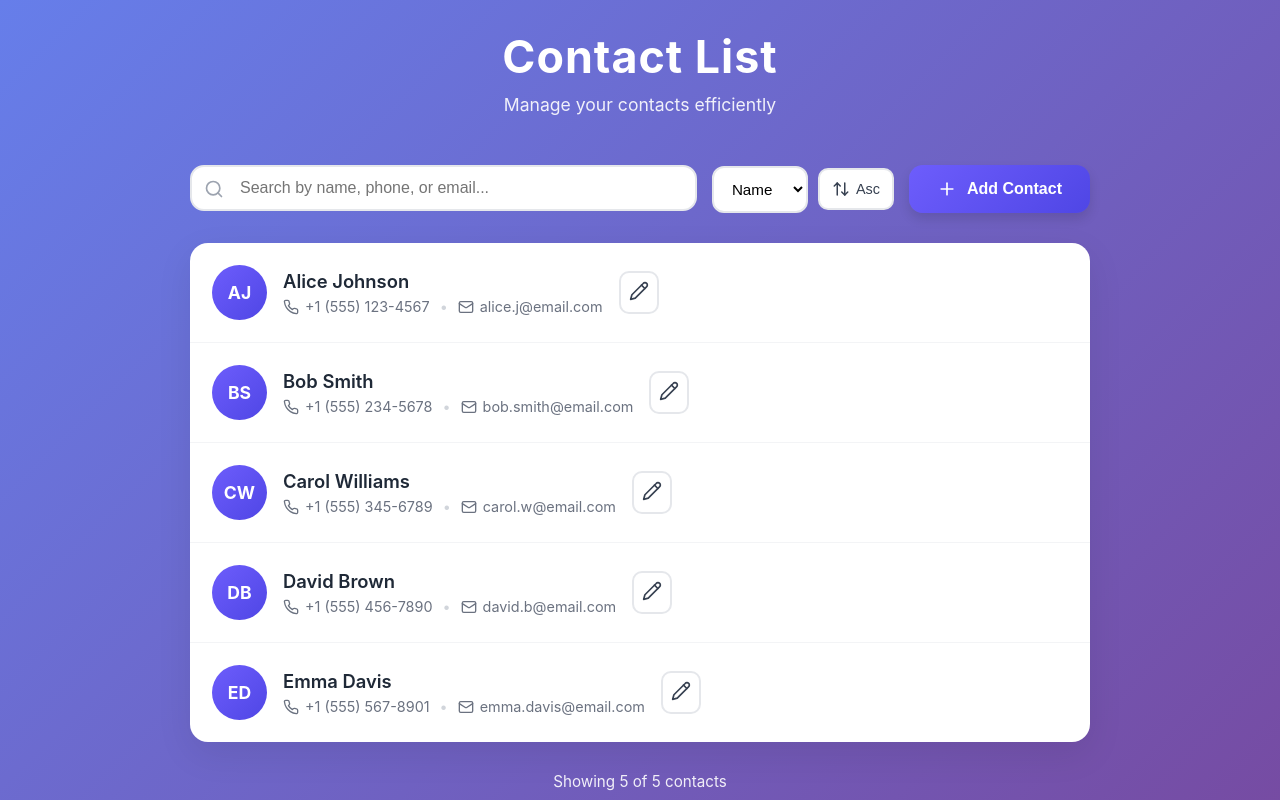
Test: App core flows › search filters by name, phone, and email
Type "alice" into the field with placeholder "Search by name, phone, or email...".
click(443, 188); type("alice")  # box [190,165,697,211]
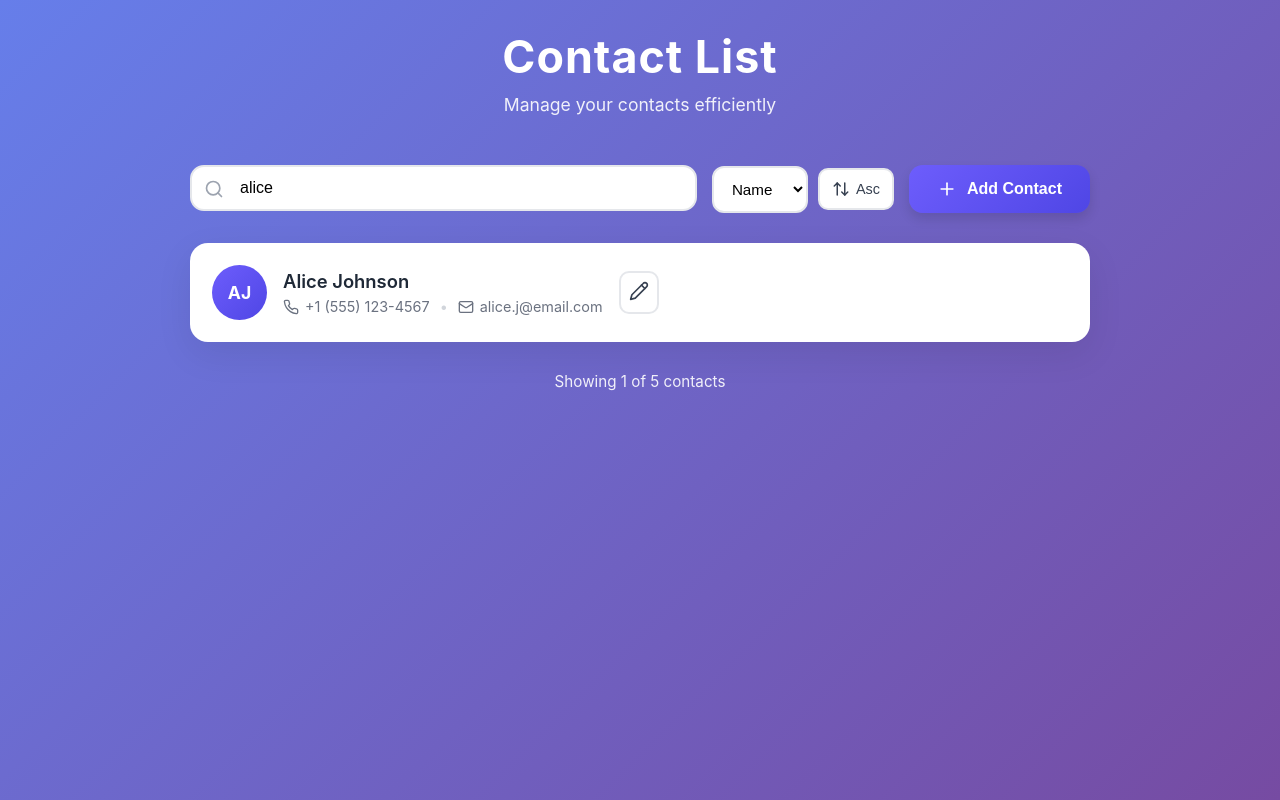
expect the heading "Alice Johnson" is shown: met, box [283,270,409,292]
Replace the text in the field with placeholder "Search by name, phone, or email..." with "345-6789" at {"x": 443, "y": 188}, box [190,165,697,211]
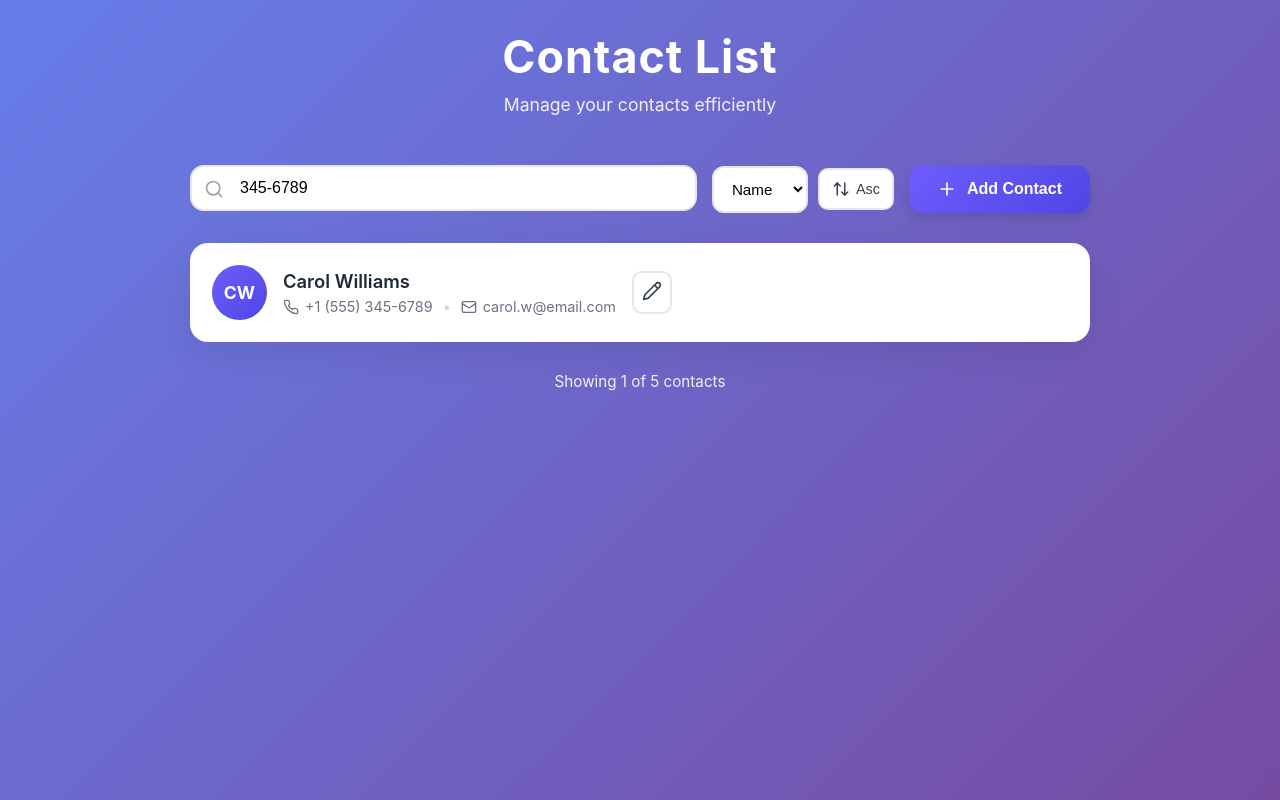
expect the heading "Carol Williams" is shown: met, box [283,270,410,292]
Replace the text in the field with placeholder "Search by name, phone, or email..." with "bob.smith@" at {"x": 443, "y": 188}, box [190,165,697,211]
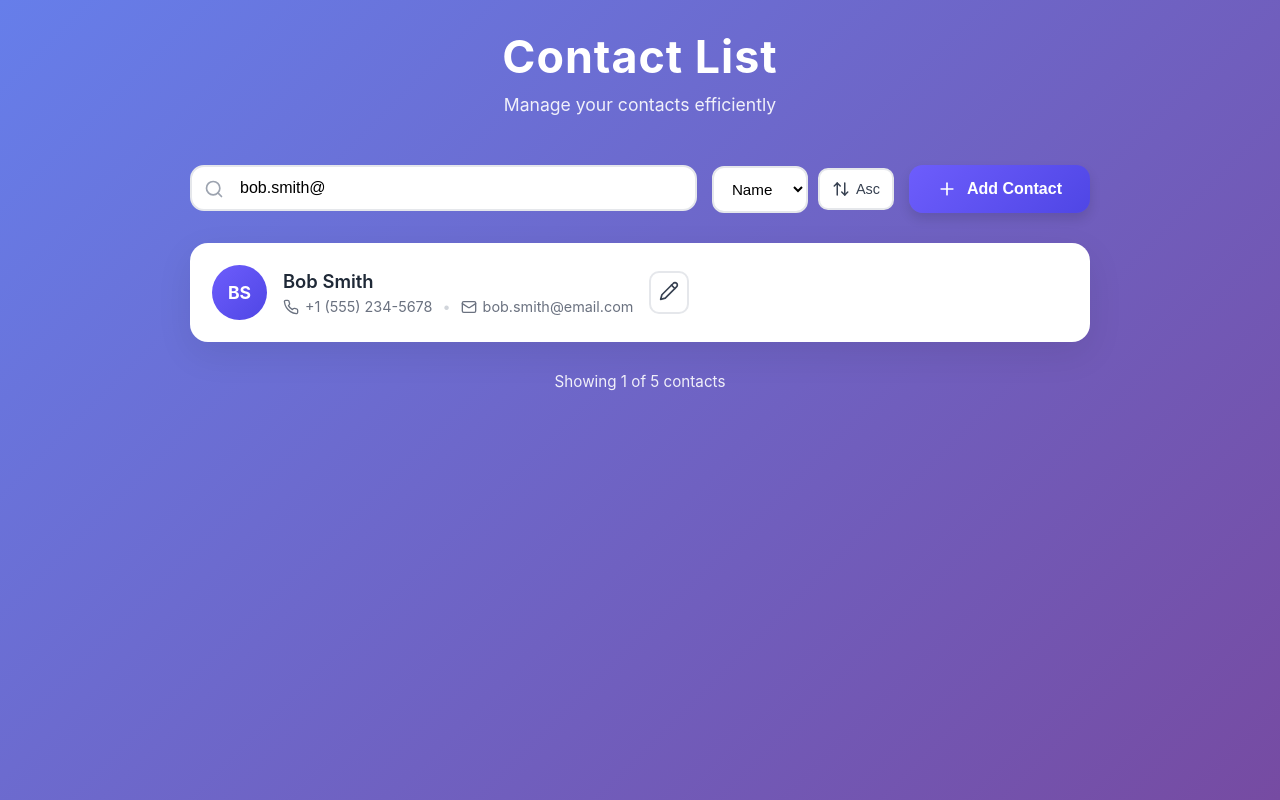
expect the heading "Bob Smith" is shown: met, box [283,270,374,292]
